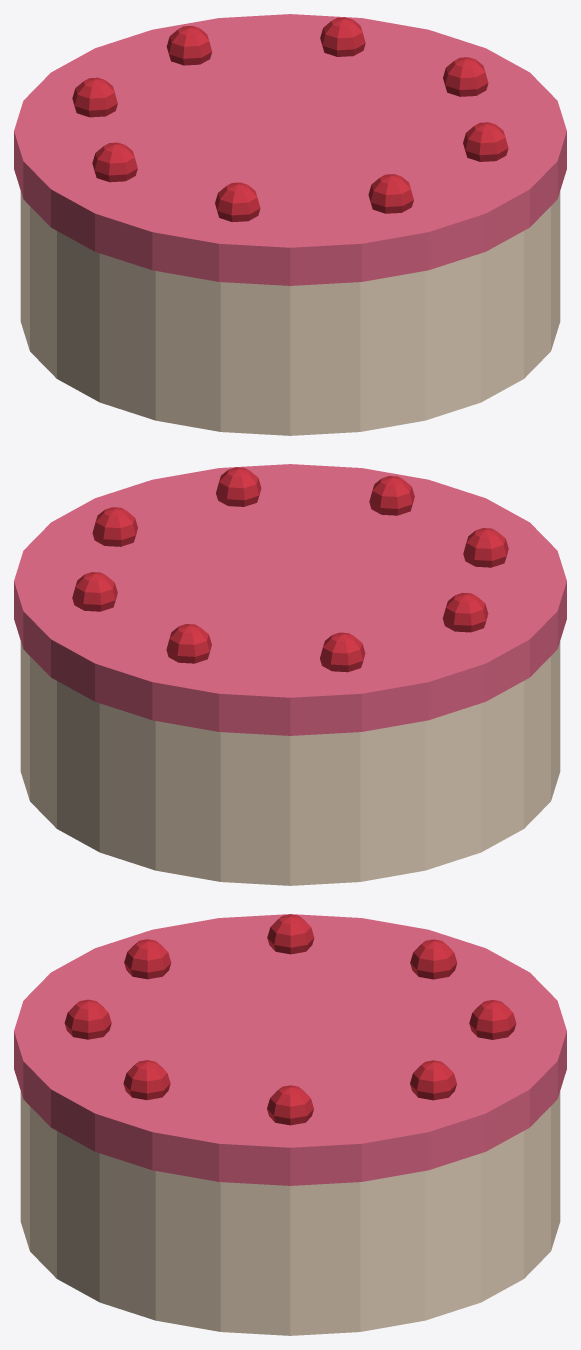
Rendered from cake_whole.glb.
3 renders of one model, top to bottom at view 1: azimuth 30°, elevation 25°; view 2: azimuth 150°, elevation 25°; view 3: azimuth 270°, elevation 25°, orthographic.
Visible parts, largest first — view 1: cake_whole; view 2: cake_whole; view 3: cake_whole.
Part boxes in pixels (x1,y1,x2,y2): cake_whole: (14, 14, 566, 435); cake_whole: (14, 464, 566, 885); cake_whole: (14, 914, 566, 1335).
Size of the model in its own units: 0.328 by 0.144 by 0.328.
